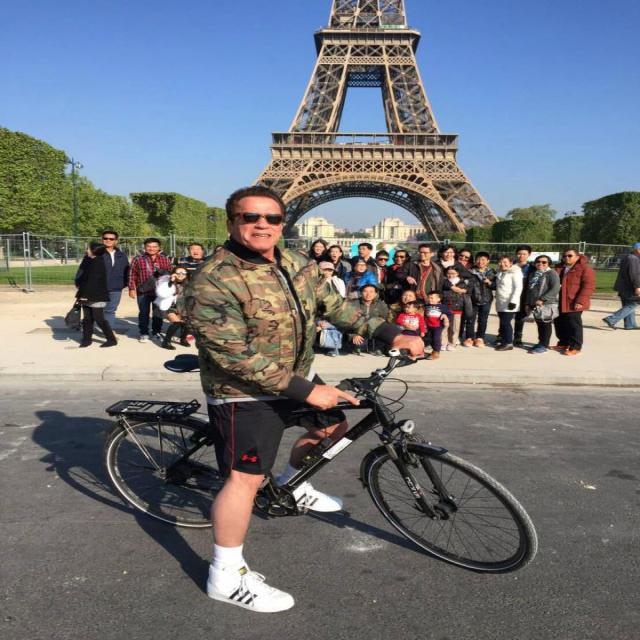body: (180, 183, 430, 618), (22, 403, 206, 516), (72, 227, 132, 342), (545, 248, 597, 358), (126, 237, 174, 344), (75, 241, 119, 349), (491, 243, 535, 351), (522, 252, 562, 356), (461, 251, 498, 348), (390, 242, 446, 306), (151, 264, 192, 351), (345, 282, 391, 358), (601, 242, 640, 331), (435, 265, 472, 351), (494, 254, 526, 352), (434, 243, 476, 296), (306, 238, 330, 324), (422, 290, 450, 361), (382, 249, 412, 311), (455, 248, 475, 341), (41, 310, 88, 348), (386, 289, 425, 332), (343, 255, 379, 295), (316, 261, 348, 300), (396, 300, 428, 337), (324, 245, 351, 285), (177, 242, 205, 277), (346, 241, 378, 271), (374, 249, 391, 285), (59, 245, 68, 265), (576, 250, 588, 264), (212, 244, 224, 253)
